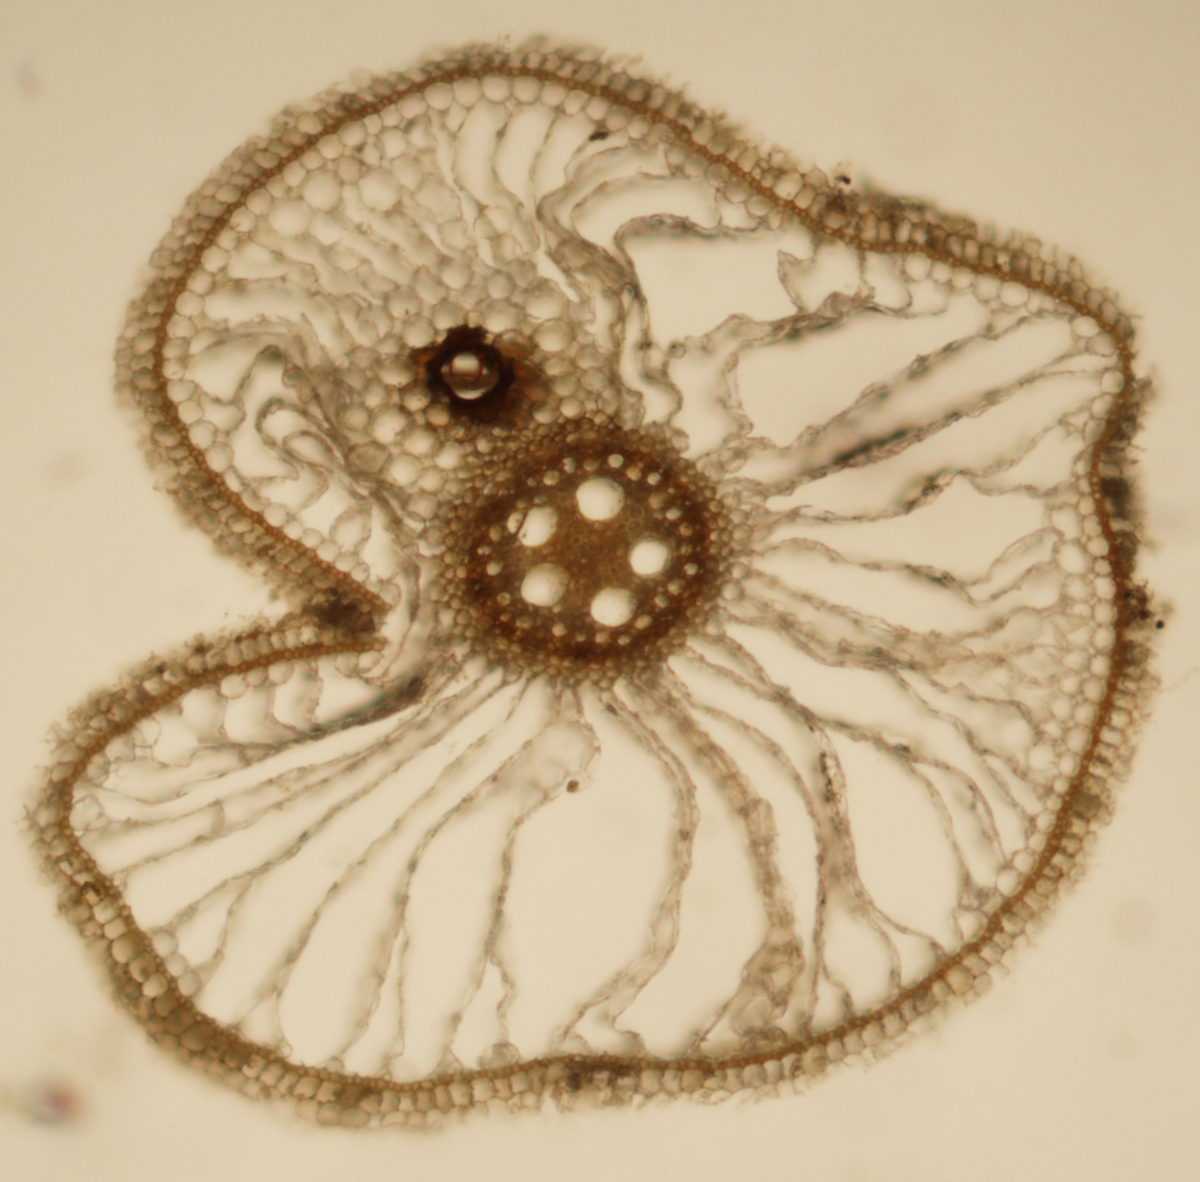lm: (520, 562, 570, 607), (576, 476, 625, 520), (506, 505, 558, 547), (590, 586, 637, 627), (628, 537, 670, 576)
